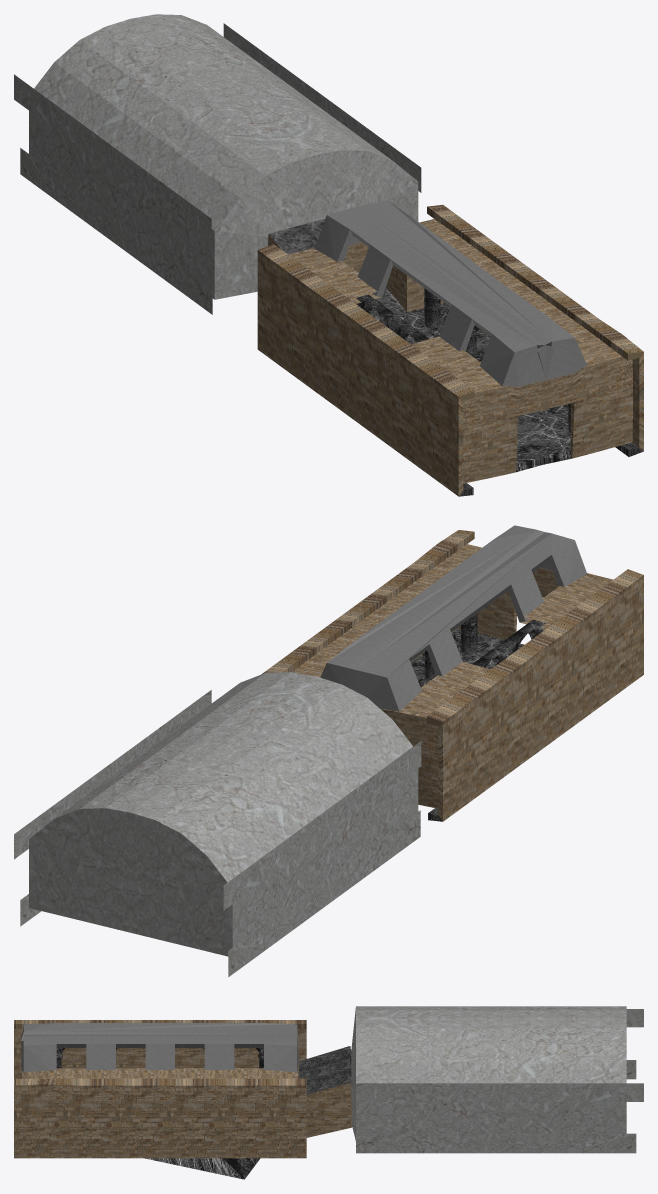
File: hall.obj
The picture shows the model from 3 angles, top to bottom: view 1: azimuth 30°, elevation 25°; view 2: azimuth 150°, elevation 25°; view 3: azimuth 270°, elevation 25°; orthographic projection. The views are drawn at different scales.
Visible parts, largest first — view 1: hall, entrance, entrance.001, pillars; view 2: hall, entrance, entrance.001, pillars; view 3: hall, entrance, entrance.001.
Part boxes in pixels (<box>): hall: <box>14,14,421,314</box>; entrance: <box>257,204,643,496</box>; entrance.001: <box>314,200,586,386</box>; pillars: <box>356,288,570,432</box>; hall: <box>14,672,421,976</box>; entrance: <box>261,530,643,821</box>; entrance.001: <box>320,525,586,711</box>; pillars: <box>425,613,545,679</box>; hall: <box>351,1006,643,1153</box>; entrance: <box>14,1020,352,1179</box>; entrance.001: <box>21,1023,299,1072</box>.
Bounding box in the file's own units: 12.48 × 9.86 × 44.59.
